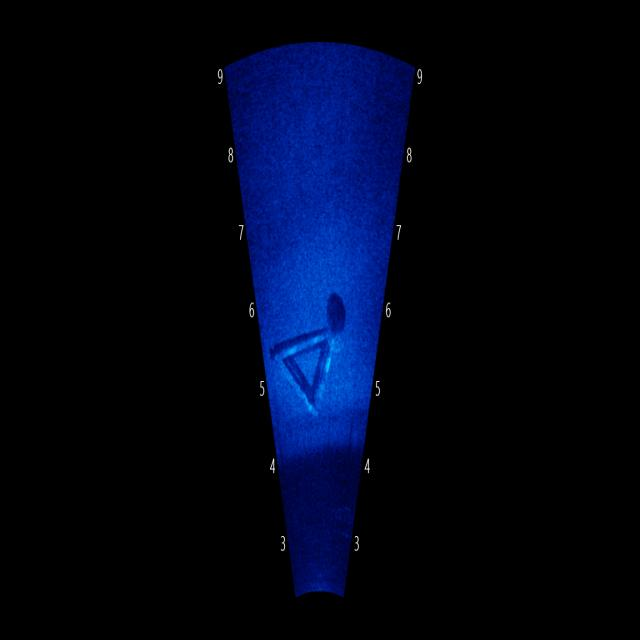triangle: (277, 263, 345, 461)
